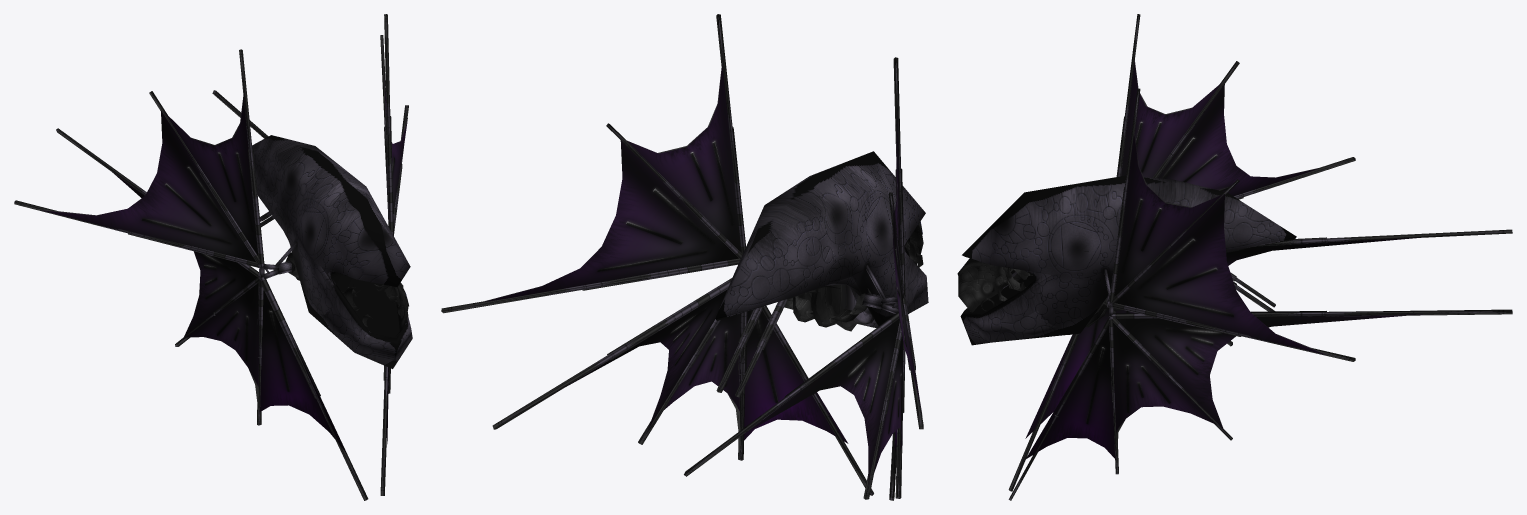
The model's file is ruizong.obj.
3 renders of one model, left to right at view 1: azimuth 30°, elevation 25°; view 2: azimuth 150°, elevation 25°; view 3: azimuth 270°, elevation 25°, orthographic. The views are drawn at different scales.
Size of the model in its own units: 362 by 370 by 419.
6 materials, 6 textured.
